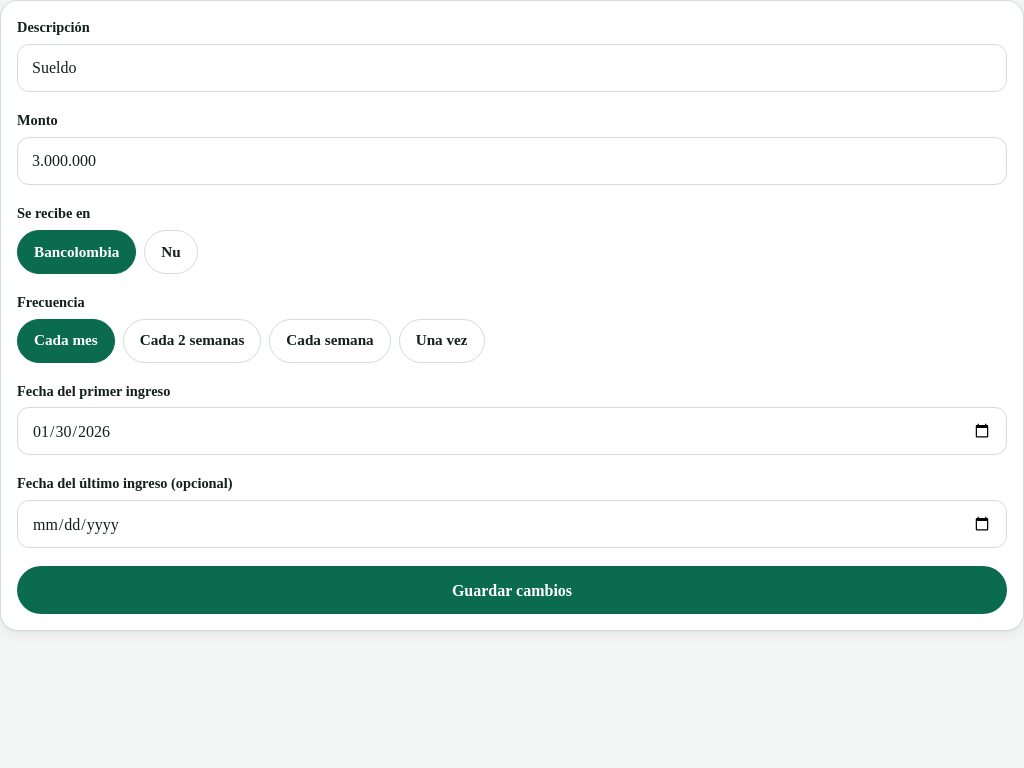
Test case: ScheduledForm en modo ingreso › el error de guardado habla del ingreso programado
Step 1. Click the button "Guardar cambios" → (512, 590), box x1=17 y1=566 x2=1007 y2=614
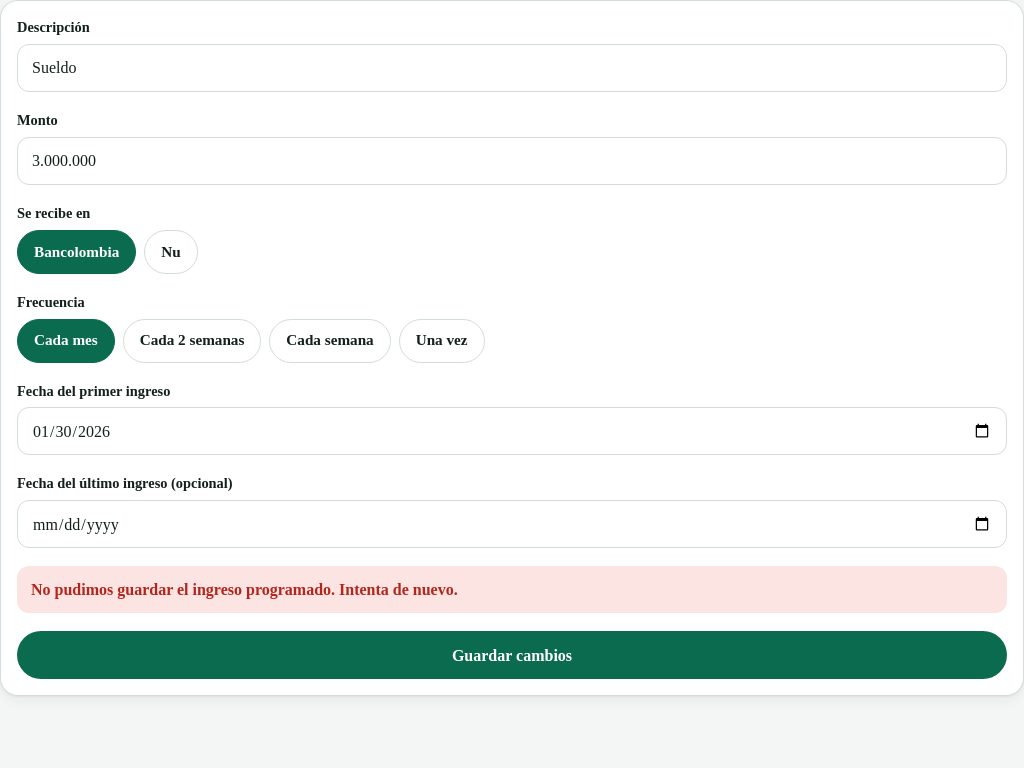
Check: the message reads "No pudimos guardar el ingreso programado. Intenta de nuevo.", box x1=31 y1=581 x2=458 y2=598
